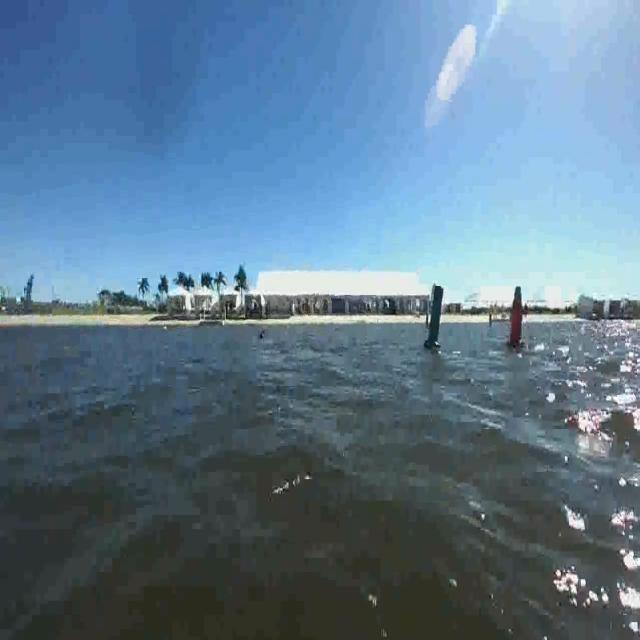green-column-buoy: (423, 280, 445, 352)
red-column-buoy: (507, 285, 527, 349)
